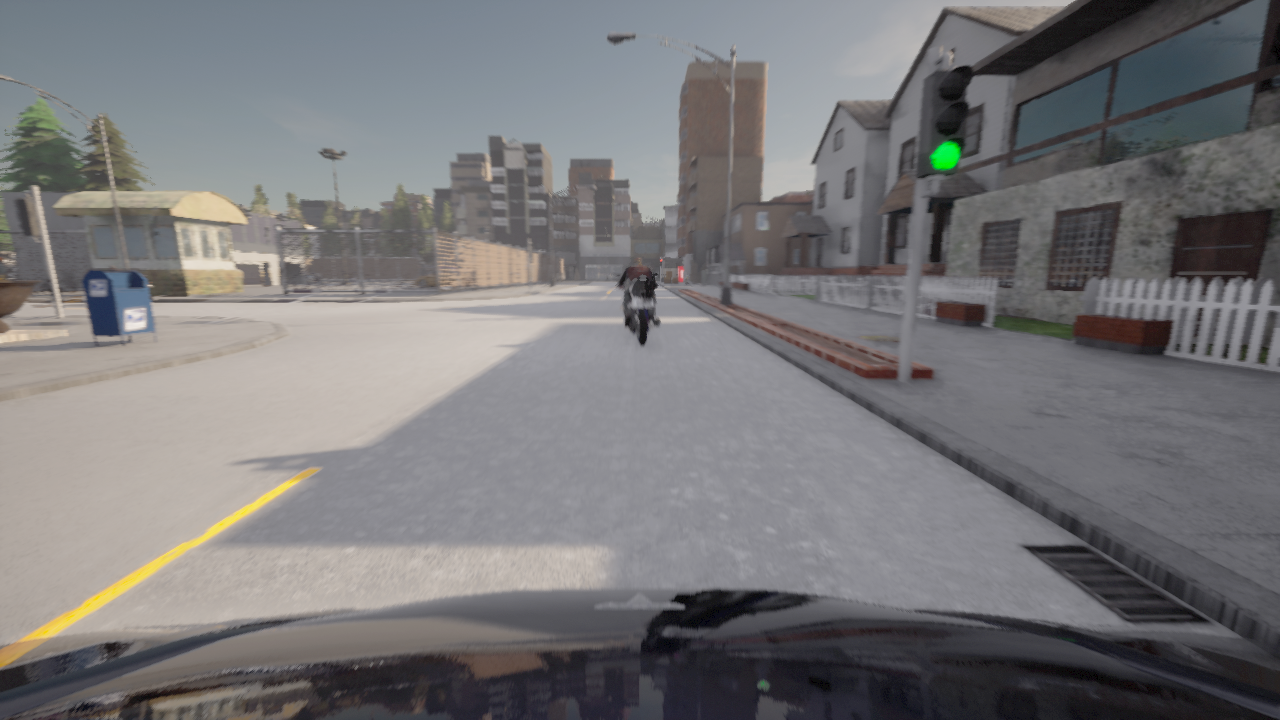cyclist: (0, 588, 1279, 719), (614, 274, 659, 347), (415, 268, 473, 288), (142, 274, 153, 299), (463, 268, 477, 279), (15, 274, 19, 278)
pedestrian: (685, 272, 689, 283)
